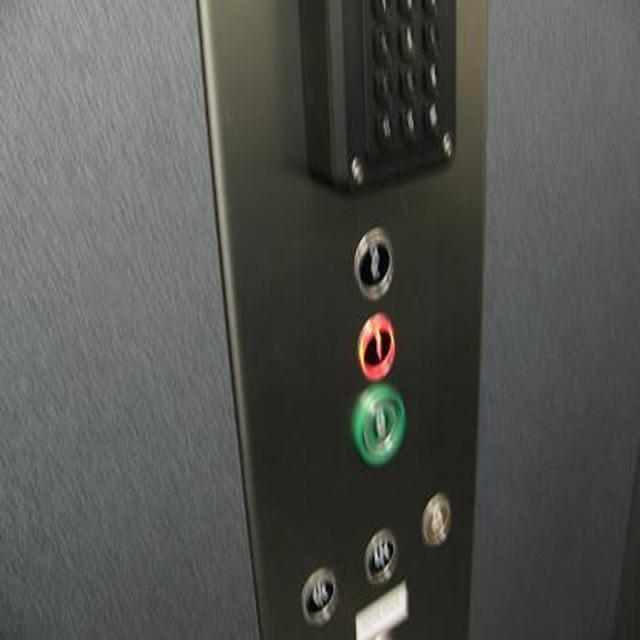1: (353, 305, 397, 383)
alarm: (418, 488, 454, 548)
blur: (348, 384, 408, 467), (349, 219, 397, 301), (297, 560, 340, 625)
close: (360, 523, 399, 585)
